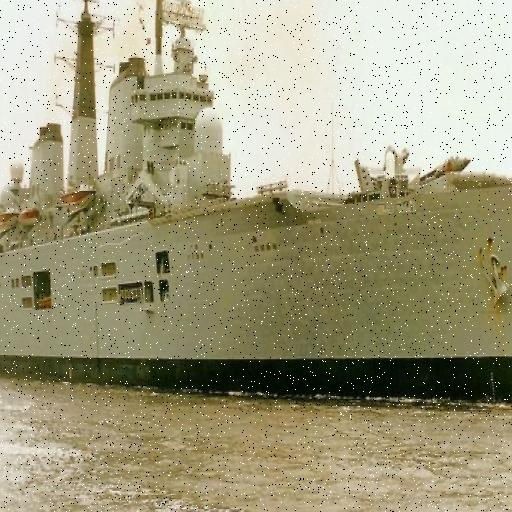Portanaves: (1, 1, 512, 418)
